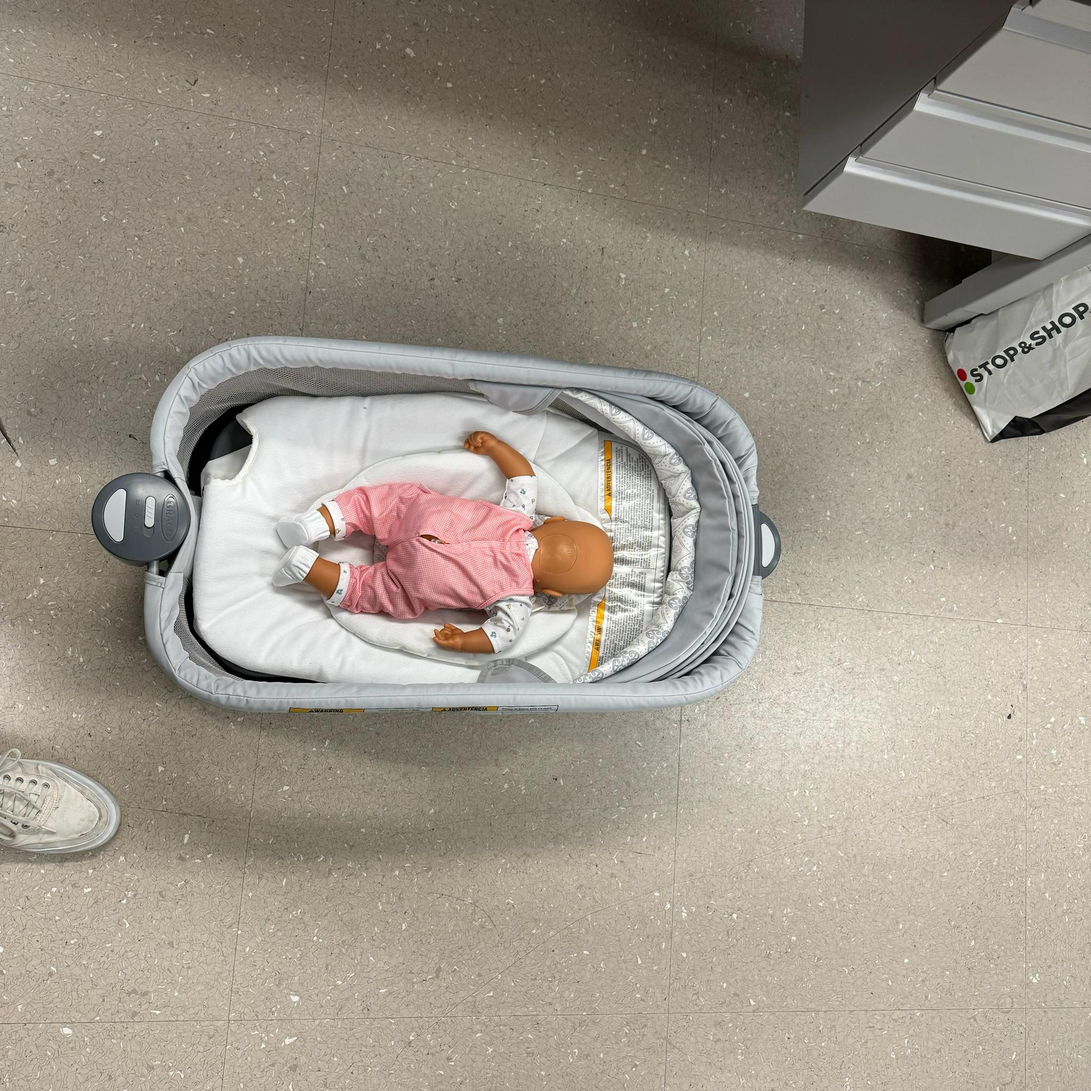baby: (272, 424, 619, 665)
